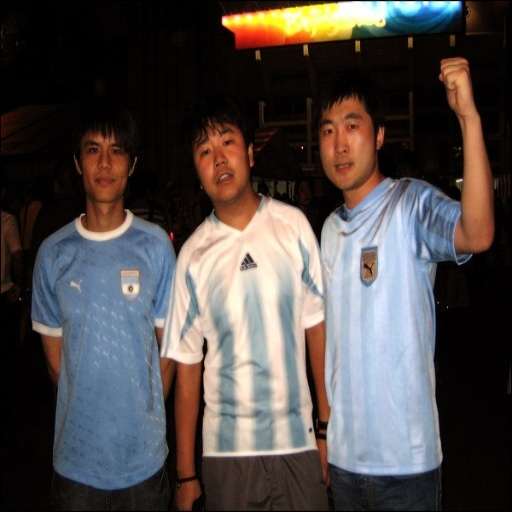hand: (443, 48, 492, 259), (172, 479, 203, 510), (317, 430, 330, 492)
